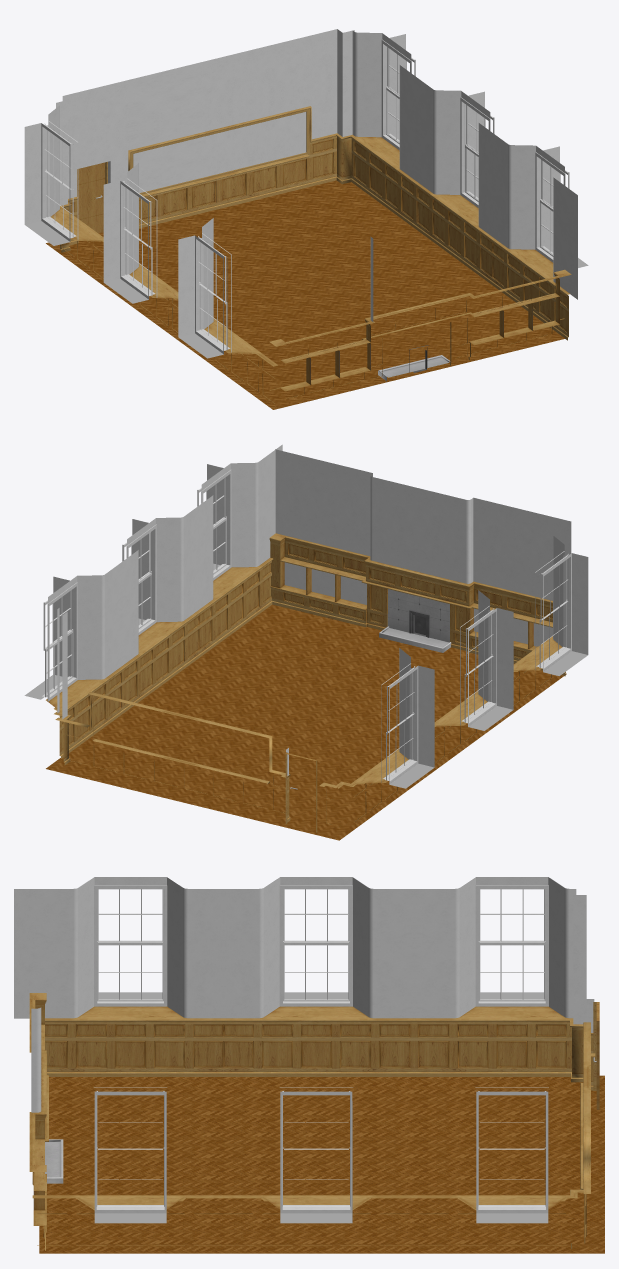
The model's file is Final Room.gltf.
3 views of the same model, one above another, from view 1: azimuth 30°, elevation 25°; view 2: azimuth 150°, elevation 25°; view 3: azimuth 270°, elevation 25° (orthographic). The views are drawn at different scales.
Parts seen in each view (by area): view 1: Final Room; view 2: Final Room; view 3: Final Room.
Part boxes in pixels (x1,y1,x2,y2): Final Room: [24, 29, 588, 409]; Final Room: [24, 444, 588, 840]; Final Room: [14, 877, 604, 1253].
Size of the model in its own units: 10.75 by 4.06 by 11.62.
Materials: 4 (4 with a texture image).
